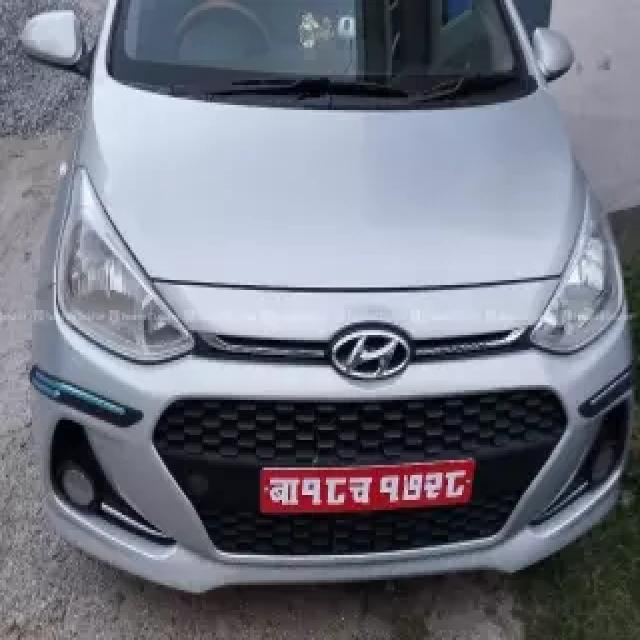License-plate: (254, 462, 477, 512)
